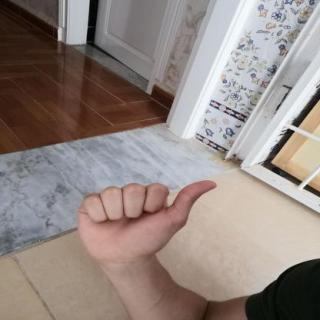DAD: (68, 172, 223, 272)
